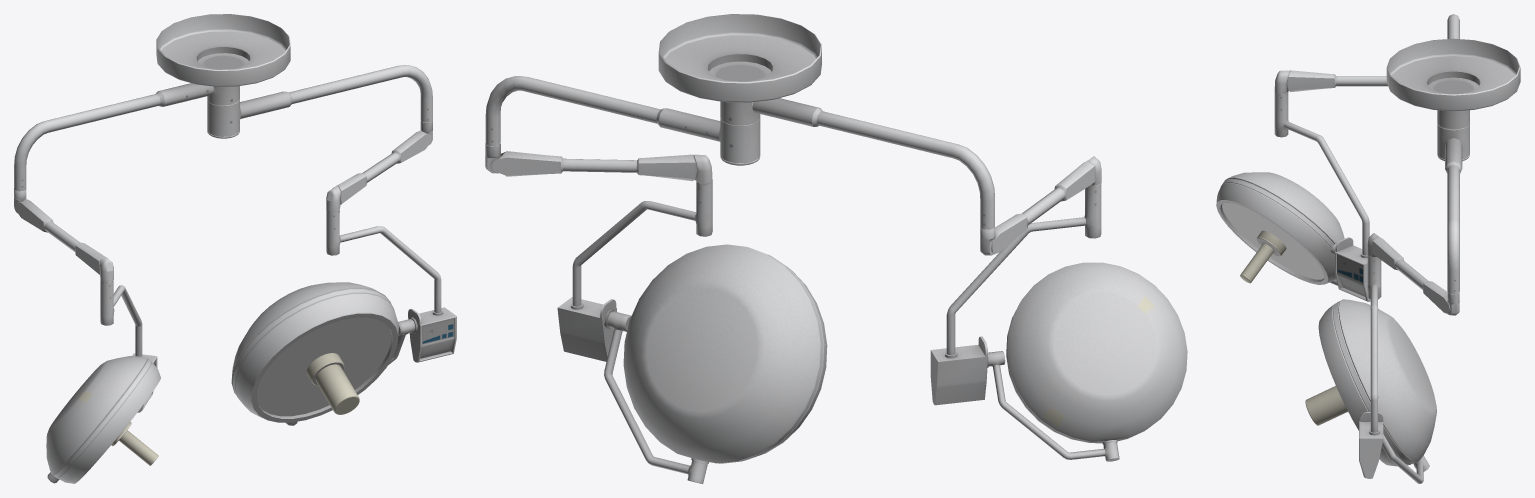
The model's file is Surgical Lights_2.fbx.
3 renders of one model, left to right at view 1: azimuth 30°, elevation 25°; view 2: azimuth 150°, elevation 25°; view 3: azimuth 270°, elevation 25°, orthographic. The views are drawn at different scales.
Parts seen in each view (by area): view 1: Surgical Lights_2, Surgical Lights_2-1; view 2: Surgical Lights_2; view 3: Surgical Lights_2, Surgical Lights_2-1.
Part boxes in pixels (<box>): Surgical Lights_2: <box>14,14,456,483</box>; Surgical Lights_2-1: <box>256,317,391,416</box>; Surgical Lights_2: <box>485,14,1187,483</box>; Surgical Lights_2: <box>1216,14,1520,483</box>; Surgical Lights_2-1: <box>1222,203,1324,279</box>.
Bounding box in the file's own units: 192 × 149 × 108.
Materials: 2 (1 with a texture image).
